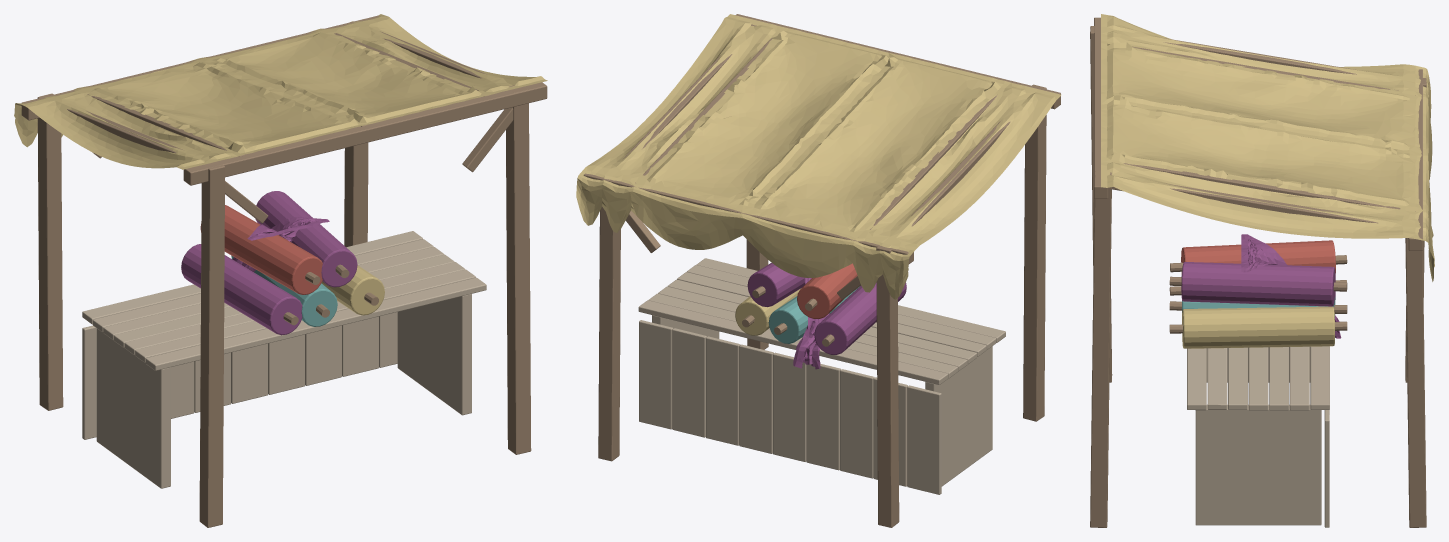
File: kram_sukiennik.glb
3 renders of one model, left to right at view 1: azimuth 30°, elevation 25°; view 2: azimuth 150°, elevation 25°; view 3: azimuth 270°, elevation 25°, orthographic. The views are drawn at different scales.
Visible parts, largest first — view 1: kram_sukiennik; view 2: kram_sukiennik; view 3: kram_sukiennik.
Part boxes in pixels (left/top/right/bottom): kram_sukiennik: left=14, top=14, right=547, bottom=527; kram_sukiennik: left=576, top=14, right=1061, bottom=527; kram_sukiennik: left=1090, top=14, right=1434, bottom=527.
Size of the model in its own units: 2.86 by 2.74 by 2.41.
